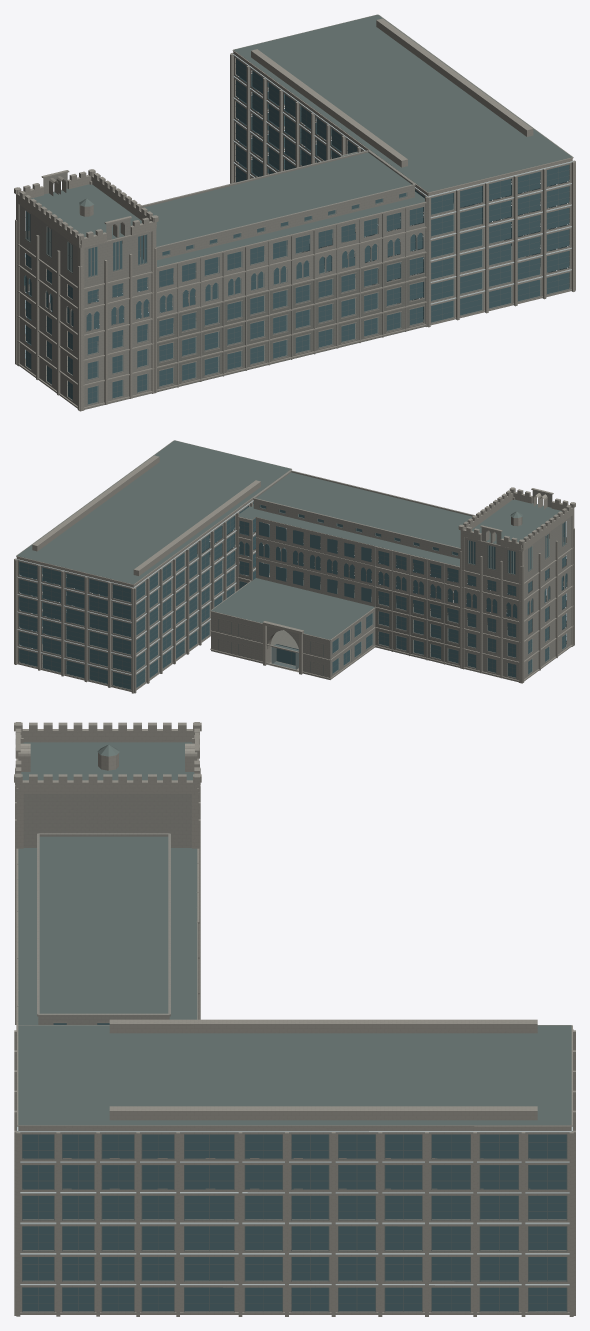
The picture shows the model from 3 angles, top to bottom: view 1: azimuth 30°, elevation 25°; view 2: azimuth 150°, elevation 25°; view 3: azimuth 270°, elevation 25°; orthographic projection. The views are drawn at different scales.
Parts seen in each view (by area): view 1: lgPosco__roof, lgPosco__cream, lgPosco__glass, lgPosco__stone, lgPosco__frame, lgPosco__rough, lgPosco__light; view 2: lgPosco__roof, lgPosco__cream, lgPosco__glass, lgPosco__stone, lgPosco__frame, lgPosco__rough, lgPosco__light; view 3: lgPosco__roof, lgPosco__cream, lgPosco__glass, lgPosco__frame, lgPosco__stone, lgPosco__light, lgPosco__rough.
Boxes of the visible parts, x1=… form: lgPosco__roof: x1=25, y1=14, x2=572, y2=276; lgPosco__cream: x1=14, y1=14, x2=575, y2=411; lgPosco__glass: x1=24, y1=59, x2=569, y2=404; lgPosco__stone: x1=19, y1=150, x2=425, y2=409; lgPosco__frame: x1=24, y1=63, x2=570, y2=405; lgPosco__rough: x1=25, y1=204, x2=569, y2=404; lgPosco__light: x1=232, y1=53, x2=573, y2=304; lgPosco__roof: x1=17, y1=440, x2=566, y2=639; lgPosco__cream: x1=14, y1=440, x2=575, y2=693; lgPosco__glass: x1=19, y1=502, x2=567, y2=689; lgPosco__stone: x1=211, y1=470, x2=571, y2=682; lgPosco__frame: x1=18, y1=505, x2=567, y2=690; lgPosco__rough: x1=19, y1=530, x2=566, y2=689; lgPosco__light: x1=16, y1=500, x2=286, y2=675; lgPosco__roof: x1=18, y1=742, x2=571, y2=1125; lgPosco__cream: x1=14, y1=722, x2=575, y2=1316; lgPosco__glass: x1=22, y1=1023, x2=566, y2=1311; lgPosco__frame: x1=22, y1=1023, x2=567, y2=1312; lgPosco__stone: x1=17, y1=794, x2=212, y2=1189; lgPosco__light: x1=17, y1=1126, x2=572, y2=1285; lgPosco__rough: x1=22, y1=1219, x2=566, y2=1311.
Bounding box in the file's own units: 85.74 × 29.98 × 59.07.
7 materials, 3 textured.
